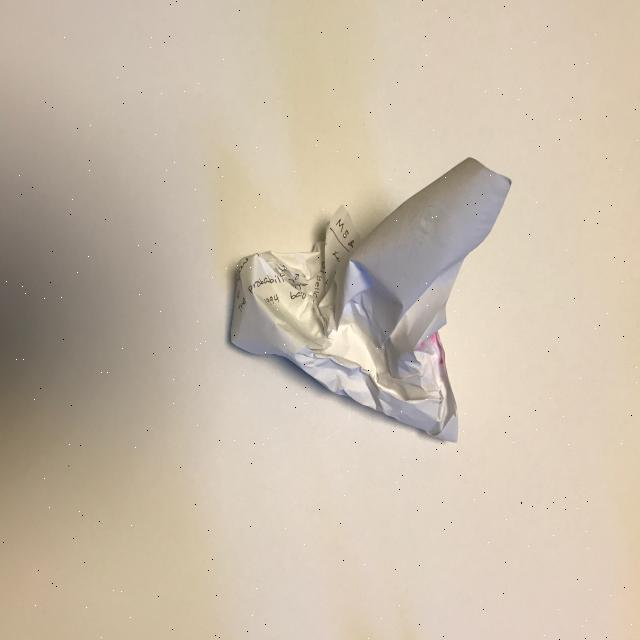paper: (229, 156, 512, 444)
